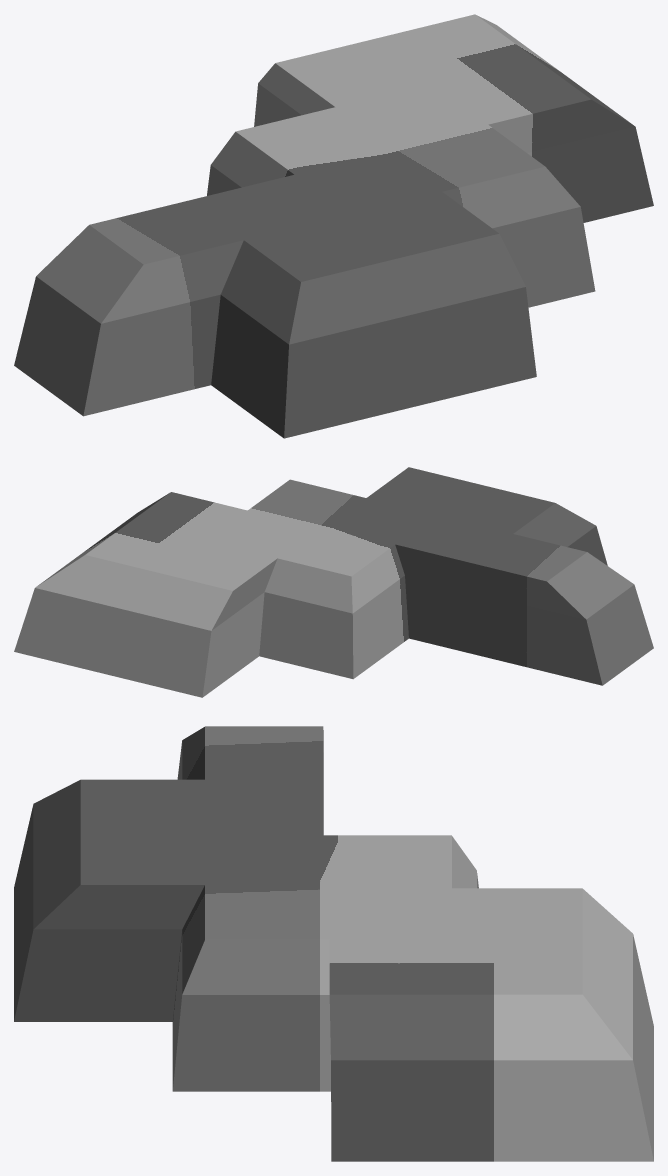
File: stone_chips_815x00.gltf
The picture shows the model from 3 angles, top to bottom: view 1: azimuth 30°, elevation 25°; view 2: azimuth 150°, elevation 25°; view 3: azimuth 270°, elevation 25°; orthographic projection. The views are drawn at different scales.
Visible parts, largest first — view 1: stone_chips_815x00; view 2: stone_chips_815x00; view 3: stone_chips_815x00.
Boxes of the visible parts, <box> form: stone_chips_815x00: <box>14,14,653,438</box>; stone_chips_815x00: <box>14,467,653,697</box>; stone_chips_815x00: <box>14,726,653,1161</box>.
Bounding box in the file's own units: 0.5761 × 0.1048 × 0.4561.
1 material, 1 textured.
